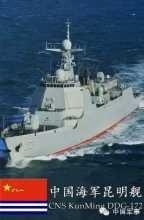warship: (1, 10, 140, 162)
